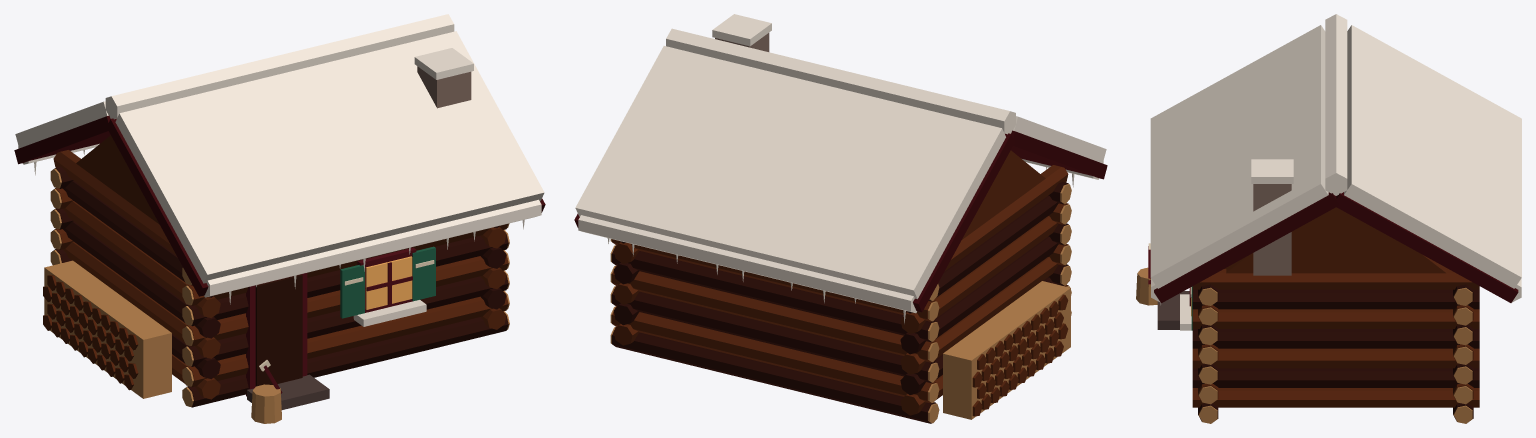
File: rs_cabin.glb
3 renders of one model, left to right at view 1: azimuth 30°, elevation 25°; view 2: azimuth 150°, elevation 25°; view 3: azimuth 270°, elevation 25°, orthographic. The views are drawn at different scales.
Parts seen in each view (by area): view 1: roof, body; view 2: roof, body; view 3: roof, body.
Part boxes in pixels (x1,y1,x2,y2): roof: (14, 14, 545, 304); body: (43, 48, 509, 423); roof: (574, 28, 1107, 323); body: (610, 14, 1071, 423); roof: (1150, 14, 1521, 305); body: (1136, 159, 1479, 423).
Bounding box in the file's own units: 6.24 × 4.45 × 6.05.
